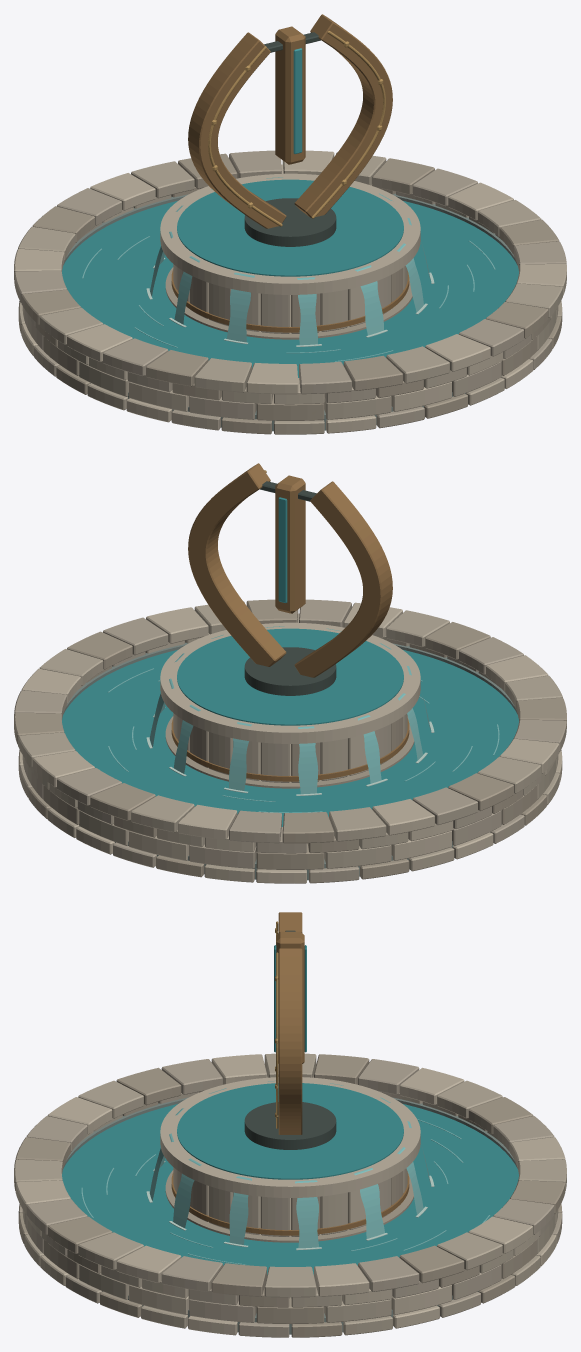
File: fountain.glb
3 renders of one model, top to bottom at view 1: azimuth 30°, elevation 25°; view 2: azimuth 150°, elevation 25°; view 3: azimuth 270°, elevation 25°, orthographic.
Parts seen in each view (by area): view 1: fountain; view 2: fountain; view 3: fountain.
Part boxes in pixels (x1,y1,x2,y2): fountain: (14,14,566,434); fountain: (14,463,566,883); fountain: (14,912,566,1337).
Size of the model in its own units: 5.8 by 3.39 by 5.8.
